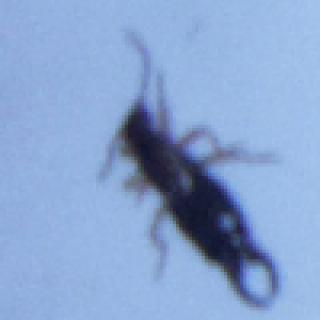earwig: (98, 24, 288, 317)
